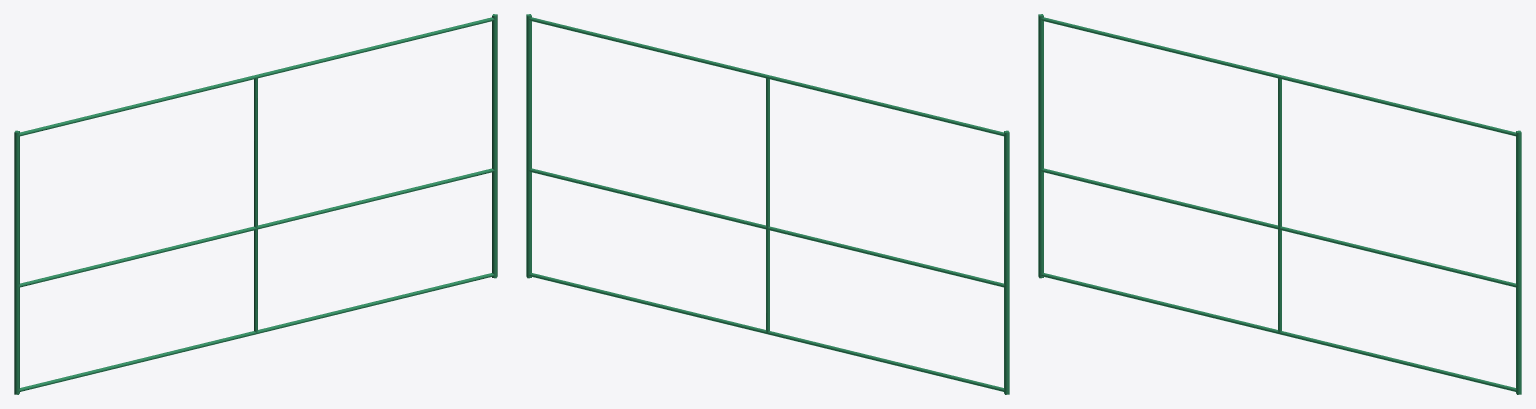
Rendered from mcp_street_fence_03_LOD_1.FBX.
3 renders of one model, left to right at view 1: azimuth 30°, elevation 25°; view 2: azimuth 150°, elevation 25°; view 3: azimuth 330°, elevation 25°, orthographic.
Visible parts, largest first — view 1: mcp_street_fence_03; view 2: mcp_street_fence_03; view 3: mcp_street_fence_03.
Part boxes in pixels (left/top/right/bottom): mcp_street_fence_03: left=14, top=14, right=497, bottom=394; mcp_street_fence_03: left=526, top=14, right=1009, bottom=394; mcp_street_fence_03: left=1038, top=14, right=1521, bottom=394.
Size of the model in its own units: 551 by 285 by 6.38.
